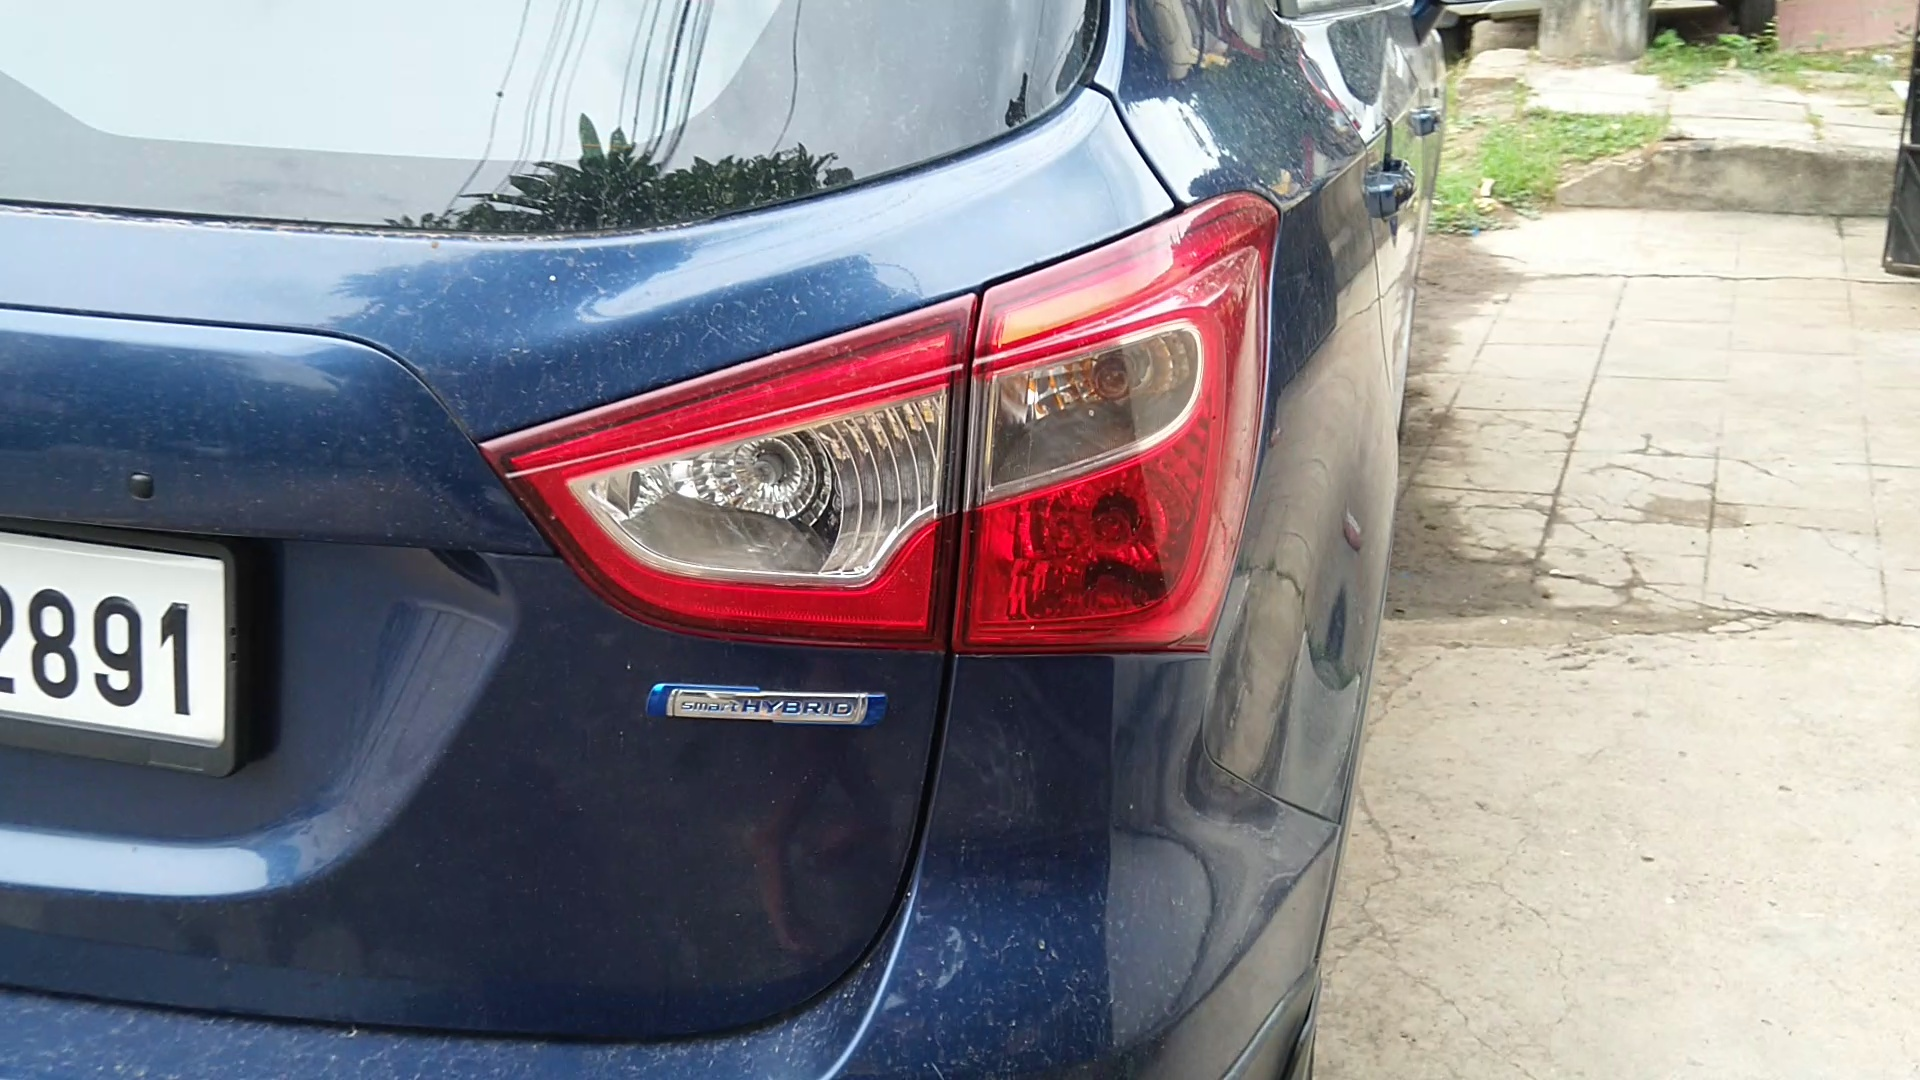shvs: (624, 657, 916, 762)
